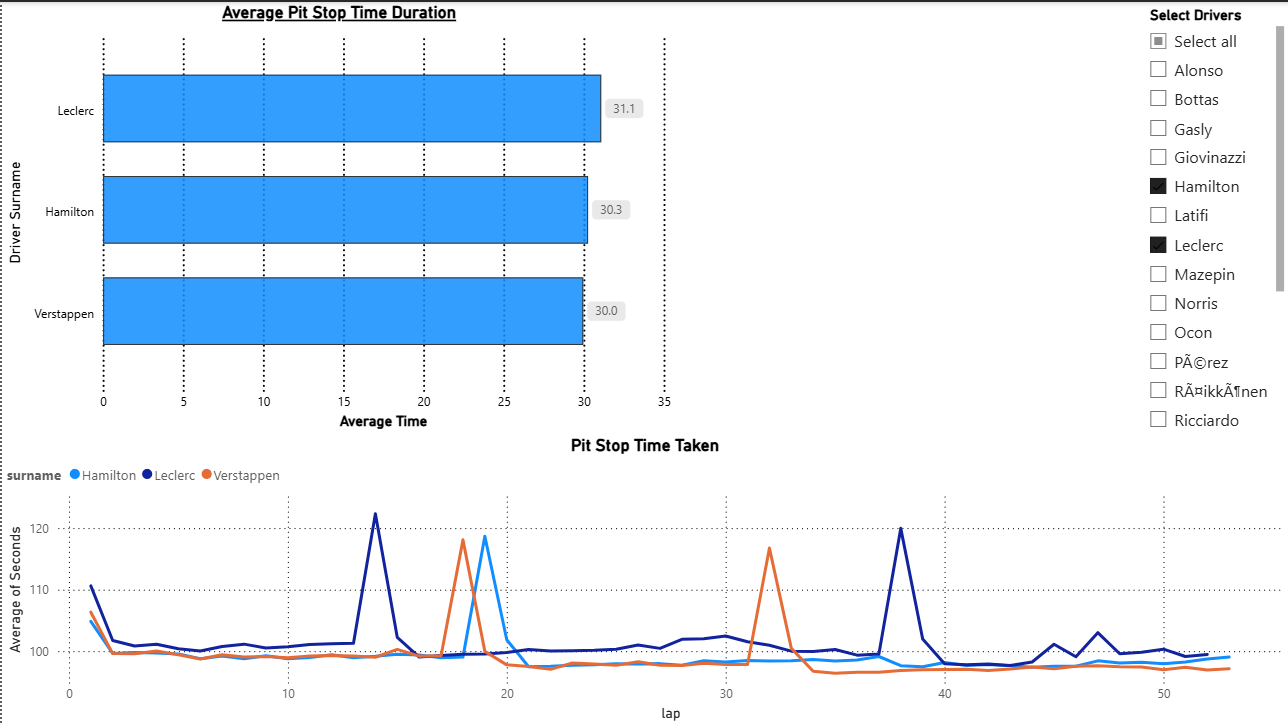

The dashboard page shown, as its layout file describes it:
{"tool":"powerbi","page":{"name":"Page 1","canvas":[1280,720],"ordinal":0},"visuals":[{"type":"clusteredBarChart","title":"Average Pit Stop Time Duration","fields":{"Category":["project_1 driver_data.surname"],"Y":["Avg(project_1 pit_data.duration)"]},"box":[0,0,671,430],"z":0},{"type":"lineChart","title":"Pit Stop Time Taken","fields":{"Category":["project_1 lap_data.lap"],"Y":["Sum(project_1 lap_data.seconds)"],"Series":["project_1 driver_data.surname"]},"box":[0,430,1280,290],"z":1000},{"type":"slicer","fields":{"Values":["project_1 driver_data.surname"]},"box":[1129,0,151,430],"z":2000}]}

Visuals, with their boxes in screenshot pixels (x1, y1, x2, y2), scaled from the page's 1280x720 canvas onto the 1288x725 screenshot:
"Average Pit Stop Time Duration" clusteredBarChart: <box>0,0,675,433</box>
"Pit Stop Time Taken" lineChart: <box>0,433,1287,724</box>
slicer - project_1 driver_data.surname: <box>1136,0,1287,433</box>
